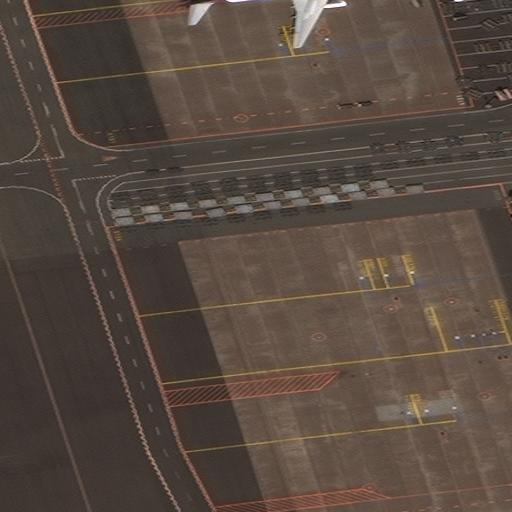Large Civil Transport: (173, 0, 385, 47)
